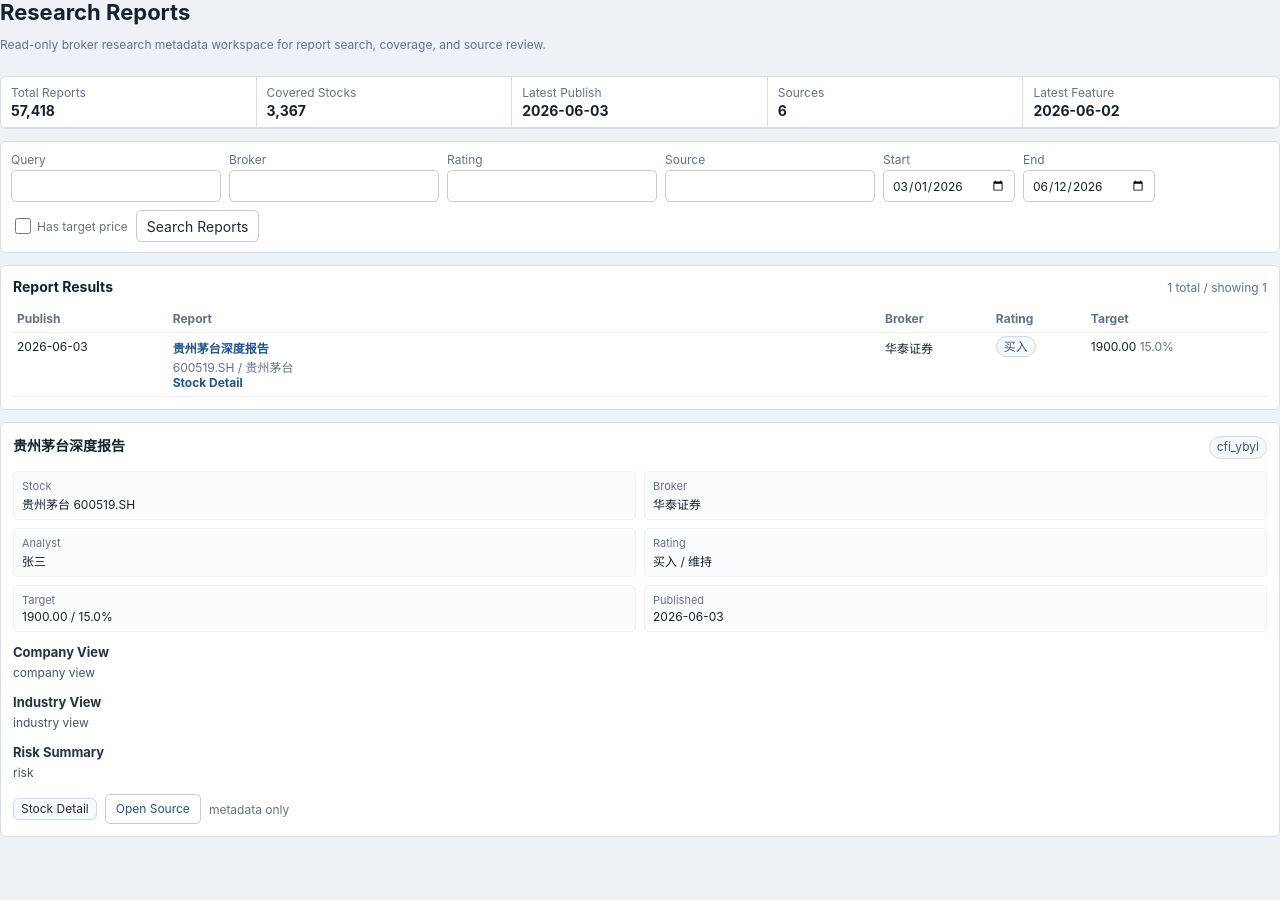
ResearchReportsWorkspace › returns from the full-screen reader to the report list
This screenshot has width=1280, height=900.
Click the button with aria-label "Open report 贵州茅台深度报告". click: (221, 348)
box: [173, 339, 269, 356]
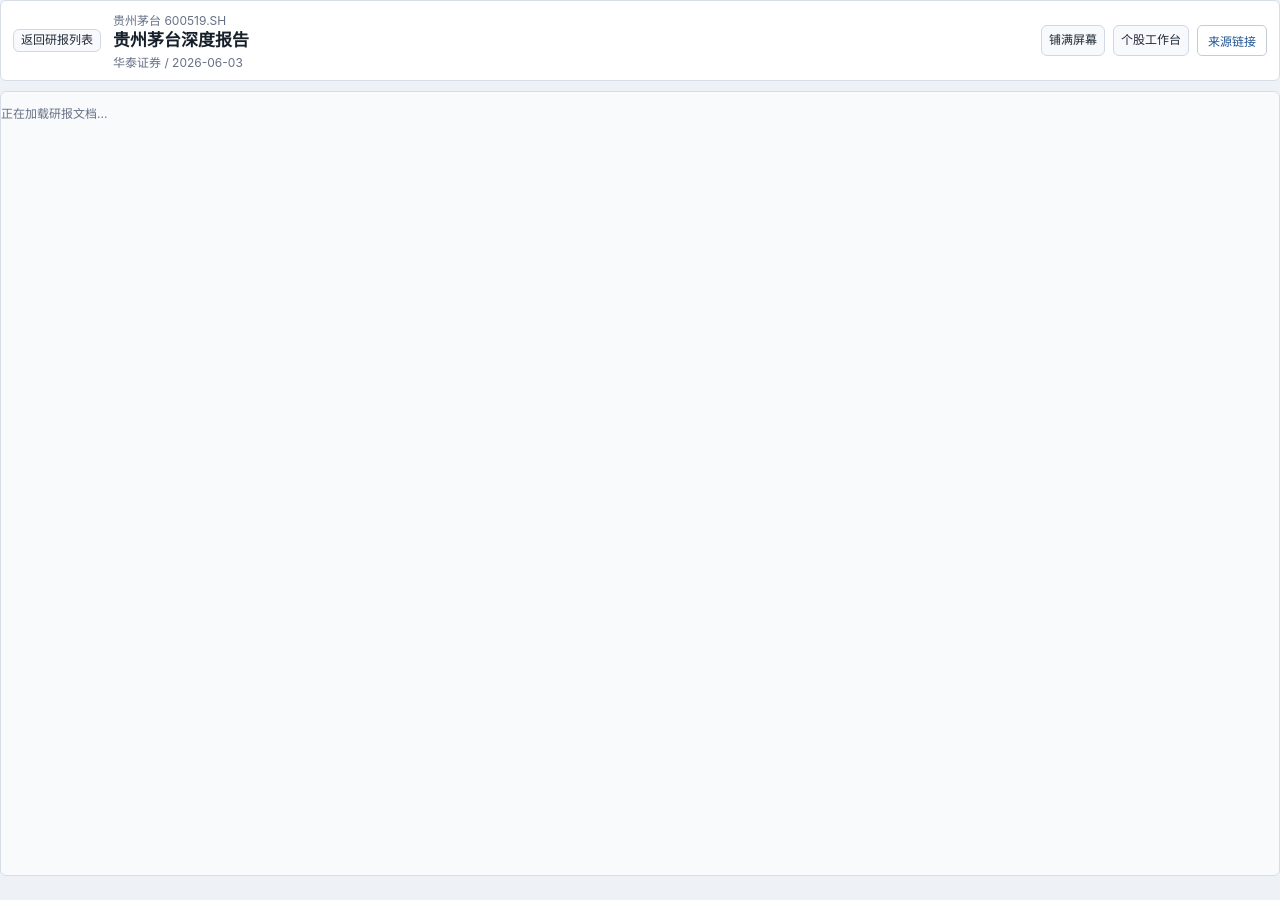
Check: the element named "Research report full-screen reader" is shown
Click the button "返回研报列表". click: (57, 41)
box: [13, 29, 101, 52]
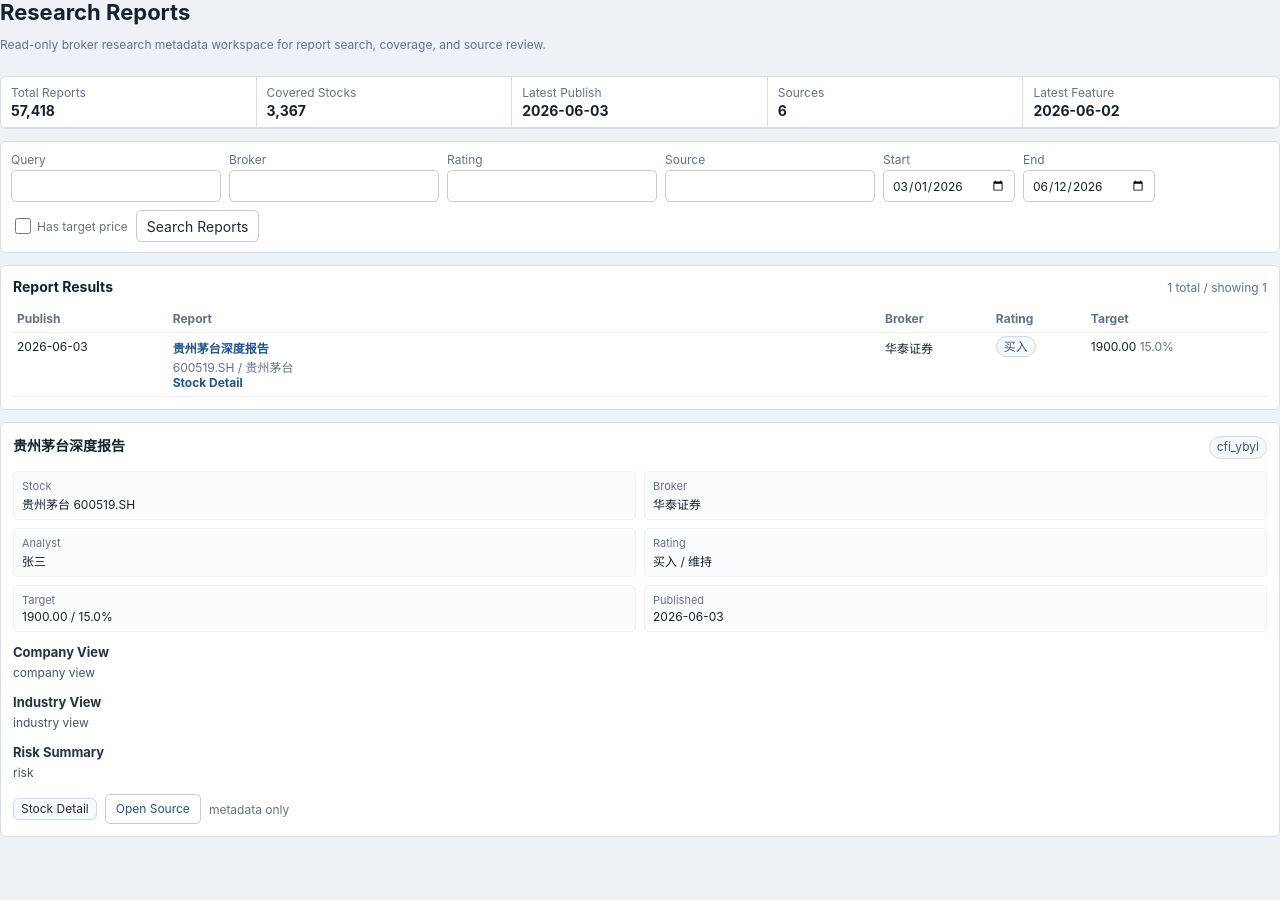
Check: the element named "Research report results" is shown, box [0, 265, 1279, 410]
